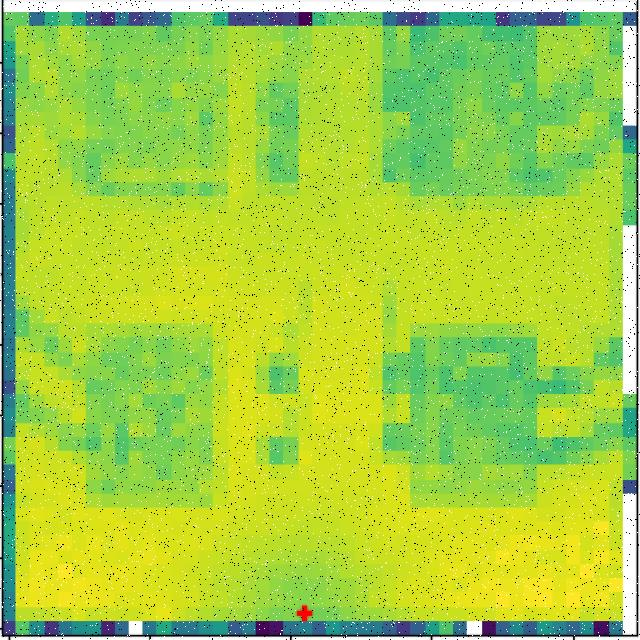Concrete: (82, 324, 220, 508)
Glass: (410, 323, 539, 511)
Metal: (76, 33, 230, 206)
Wood: (384, 29, 560, 198)
